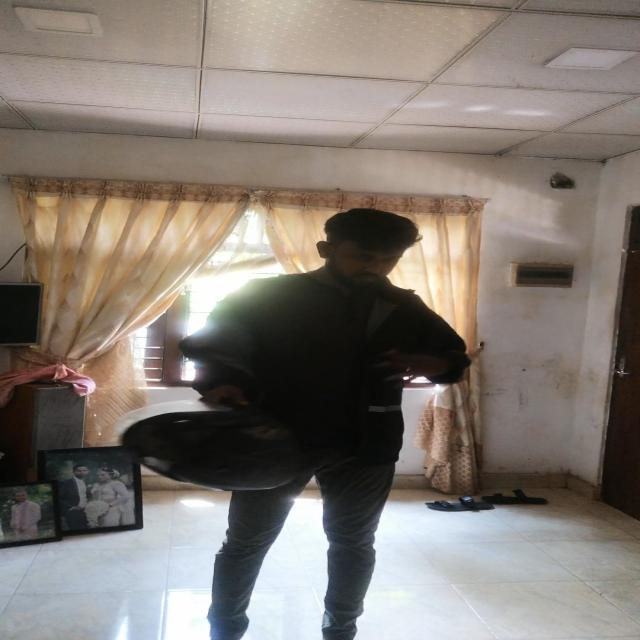Jacket_Wearer: (167, 265, 467, 483)
Person: (183, 199, 470, 640)
